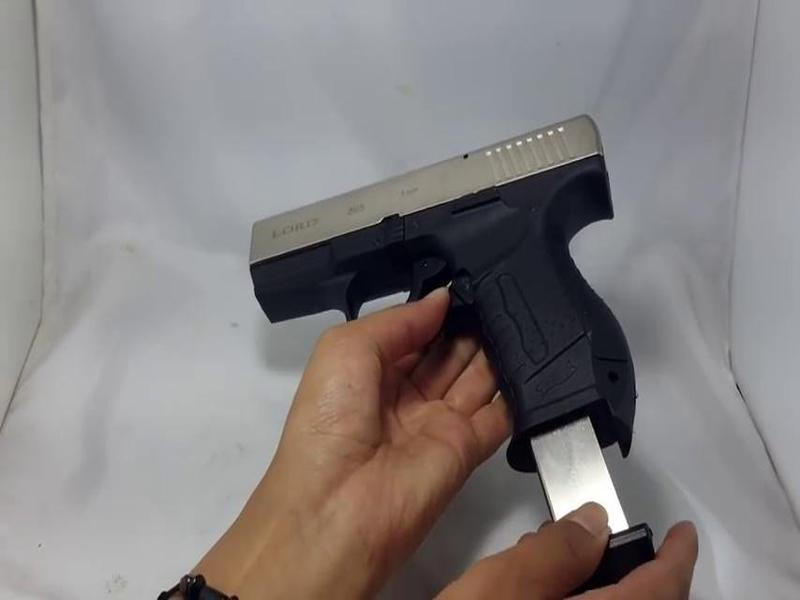Pistola: (246, 99, 653, 447)
